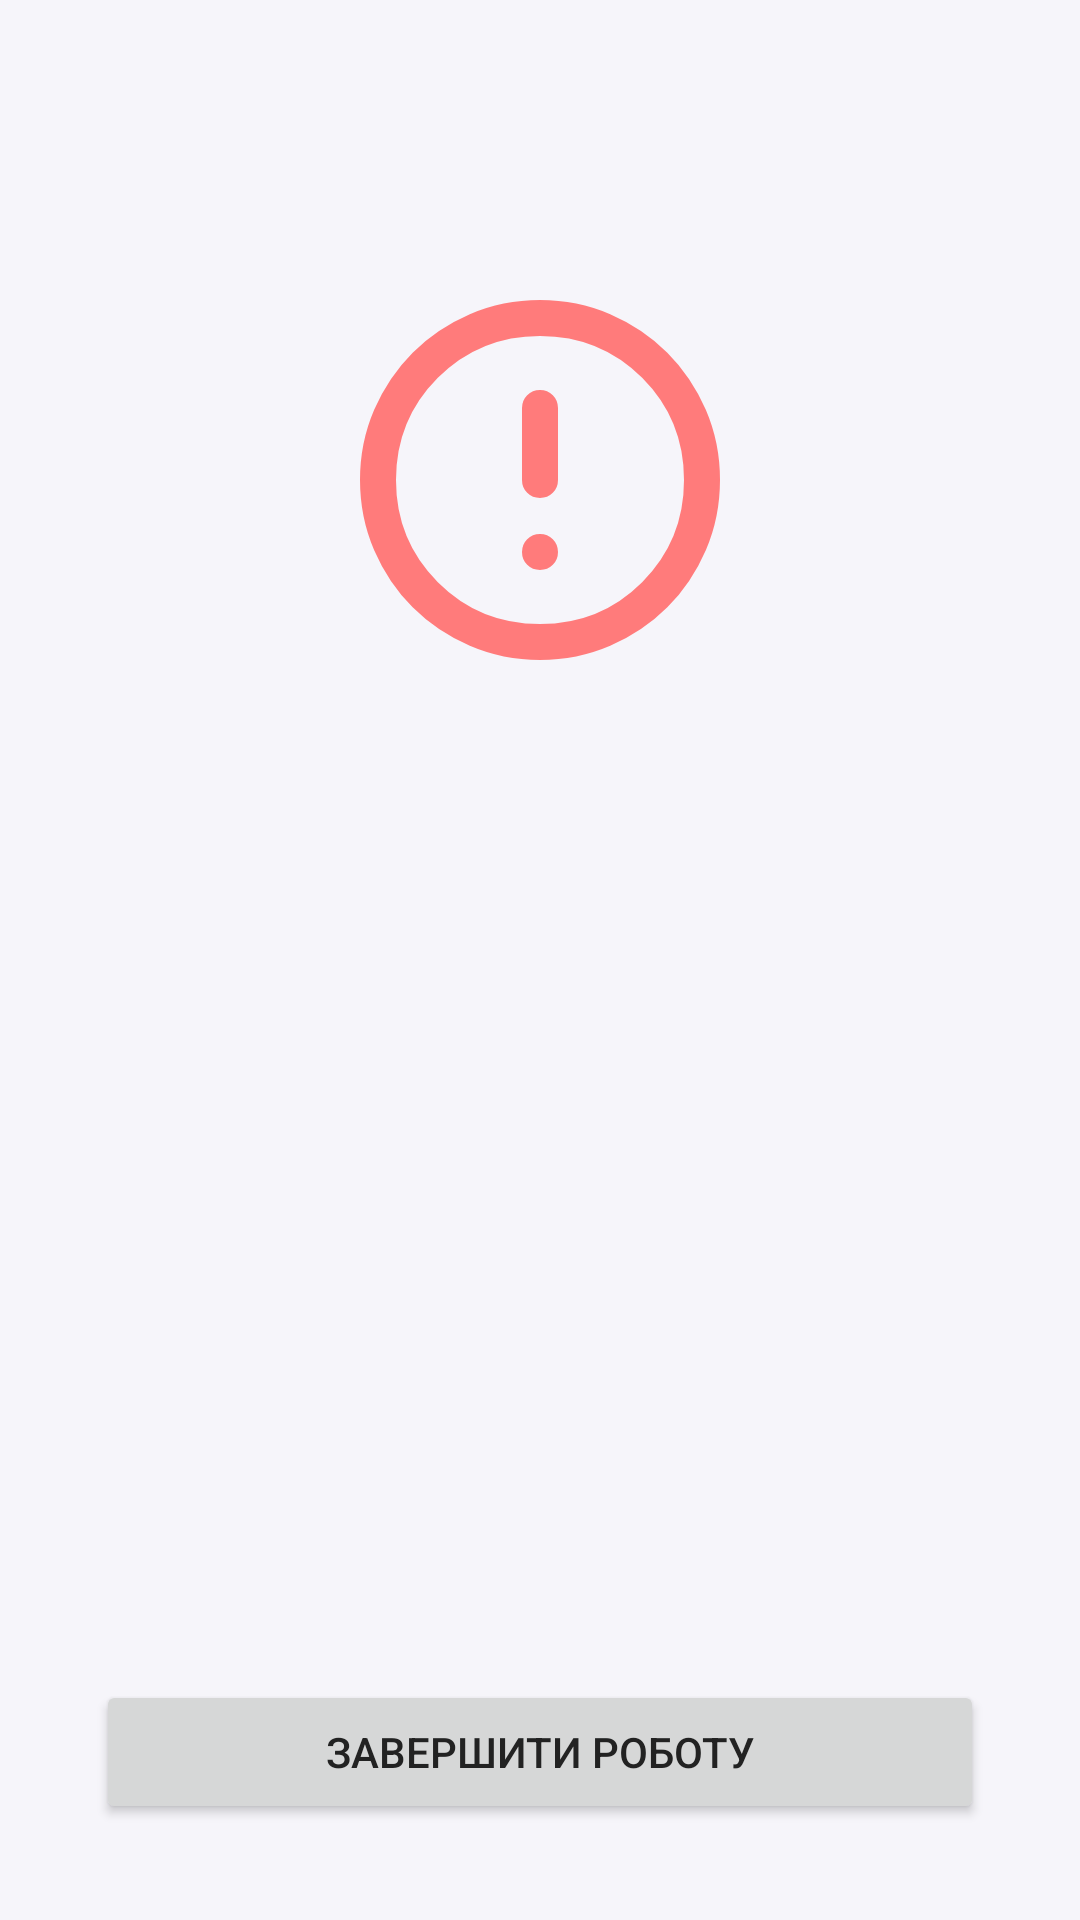

Locate icon controls on the screen. Image size 1080×1920, boxes as (x1, y1, x2, y2).
error: (360, 300, 720, 660)
